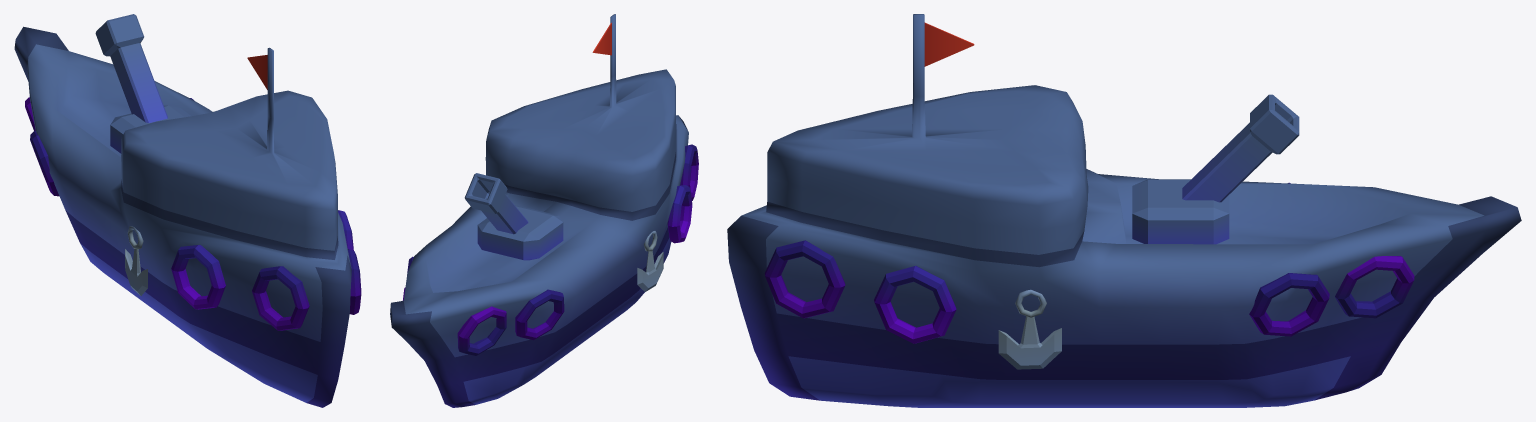
The model's file is карабль.fbx.
The picture shows the model from 3 angles, left to right: view 1: azimuth 30°, elevation 25°; view 2: azimuth 150°, elevation 25°; view 3: azimuth 270°, elevation 25°; orthographic projection. The views are drawn at different scales.
Visible parts, largest first — view 1: Cube, Torus.004, Cube.002, Cube.001, Cube.004; view 2: Cube, Torus.004, Cube.001, Cube.002, Cube.004; view 3: Cube, Torus.004, Cube.001, Cube.002, Cube.004.
Part boxes in pixels (x1=…): Cube: x1=14, y1=26, x2=351, y2=407; Torus.004: x1=25, y1=97, x2=361, y2=330; Cube.002: x1=95, y1=14, x2=167, y2=122; Cube.001: x1=110, y1=105, x2=191, y2=153; Cube.004: x1=247, y1=55, x2=267, y2=89; Cube: x1=390, y1=14, x2=688, y2=407; Torus.004: x1=402, y1=144, x2=698, y2=355; Cube.001: x1=477, y1=205, x2=563, y2=260; Cube.002: x1=464, y1=173, x2=528, y2=234; Cube.004: x1=592, y1=22, x2=611, y2=55; Cube: x1=727, y1=14, x2=1521, y2=407; Torus.004: x1=764, y1=182, x2=1414, y2=369; Cube.001: x1=1132, y1=179, x2=1229, y2=244; Cube.002: x1=1182, y1=94, x2=1299, y2=202; Cube.004: x1=924, y1=22, x2=974, y2=66.
Bounding box in the file's own units: 192 × 310 × 580.
